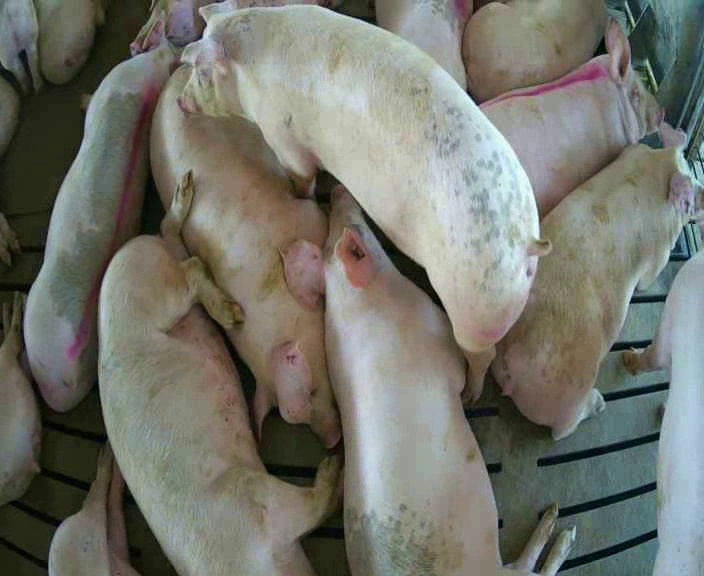pig: (183, 1, 550, 394), (278, 186, 575, 575), (99, 172, 344, 573), (150, 66, 340, 446), (492, 121, 703, 439), (24, 10, 182, 410), (480, 20, 662, 215), (624, 249, 703, 574), (462, 1, 625, 102), (48, 442, 138, 575), (0, 292, 40, 505), (376, 1, 472, 89), (35, 2, 103, 83)
